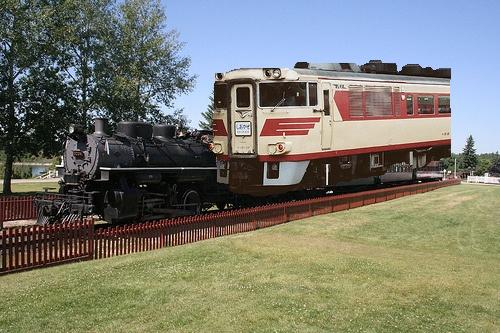tampered: (210, 61, 451, 196)
